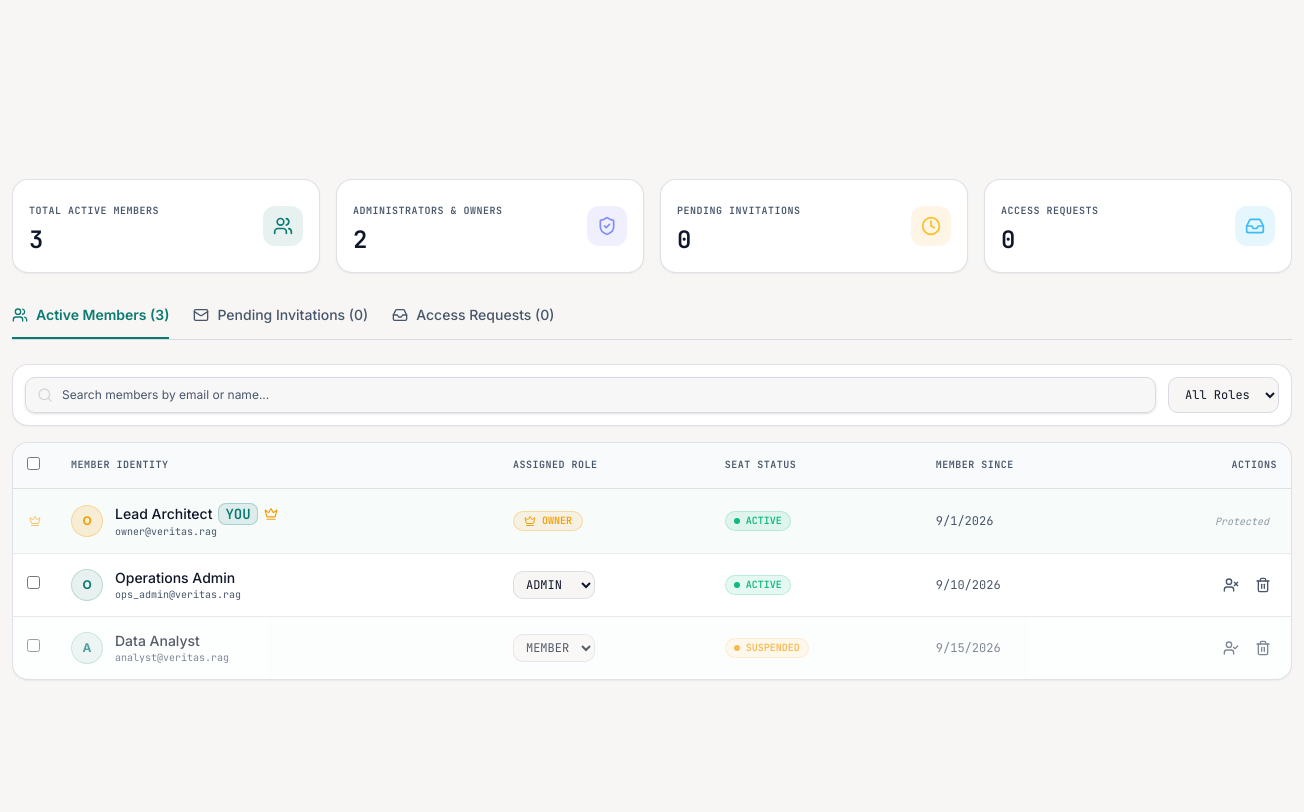
WS-B12: Workspace Members & Role Hierarchy Modern UX › switches to pending invitations tab and displays invitations list
The image size is (1304, 812).
Click the button "Pending Invitations (0)" at (281, 322), box [194,304,368,338]
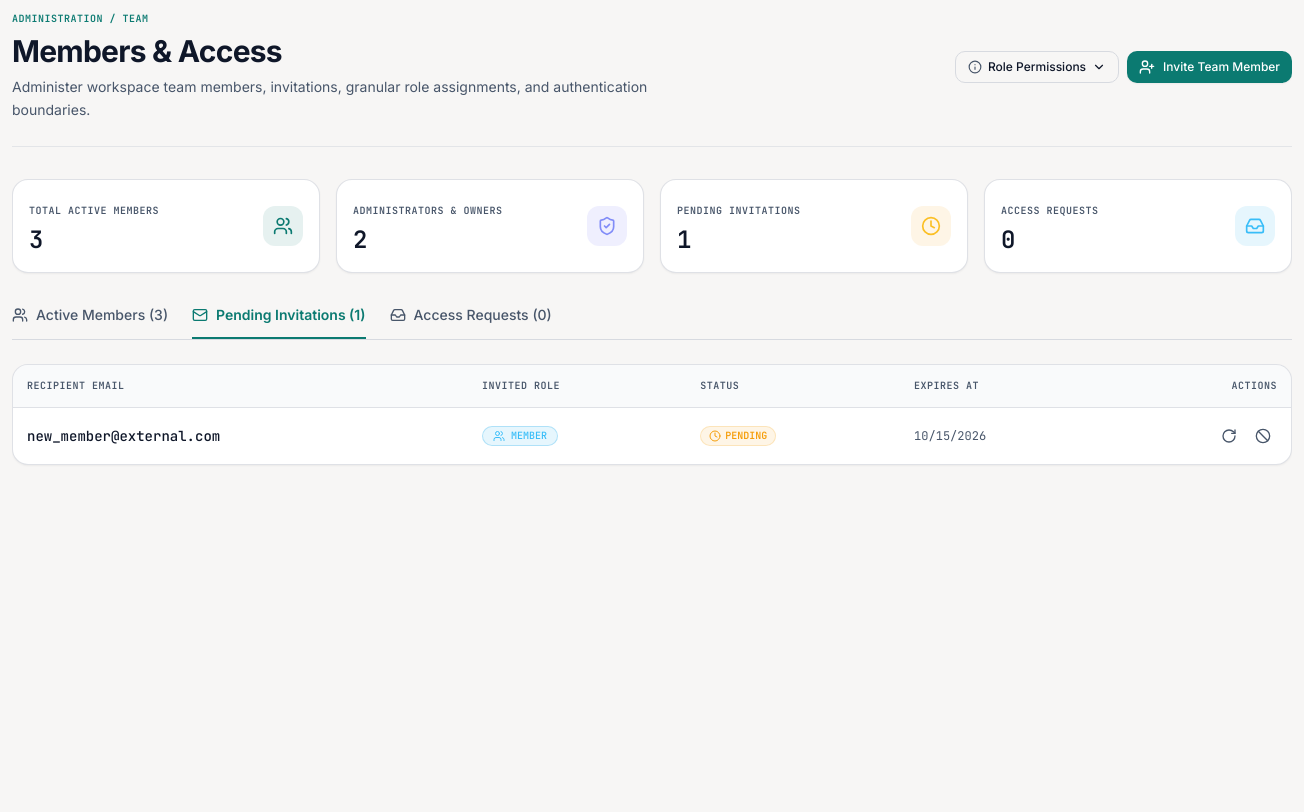
Expected: the text "new_member@external.com" is shown, [13,407,468,464]
Expected: the text "PENDING" is shown, [700,426,776,446]
